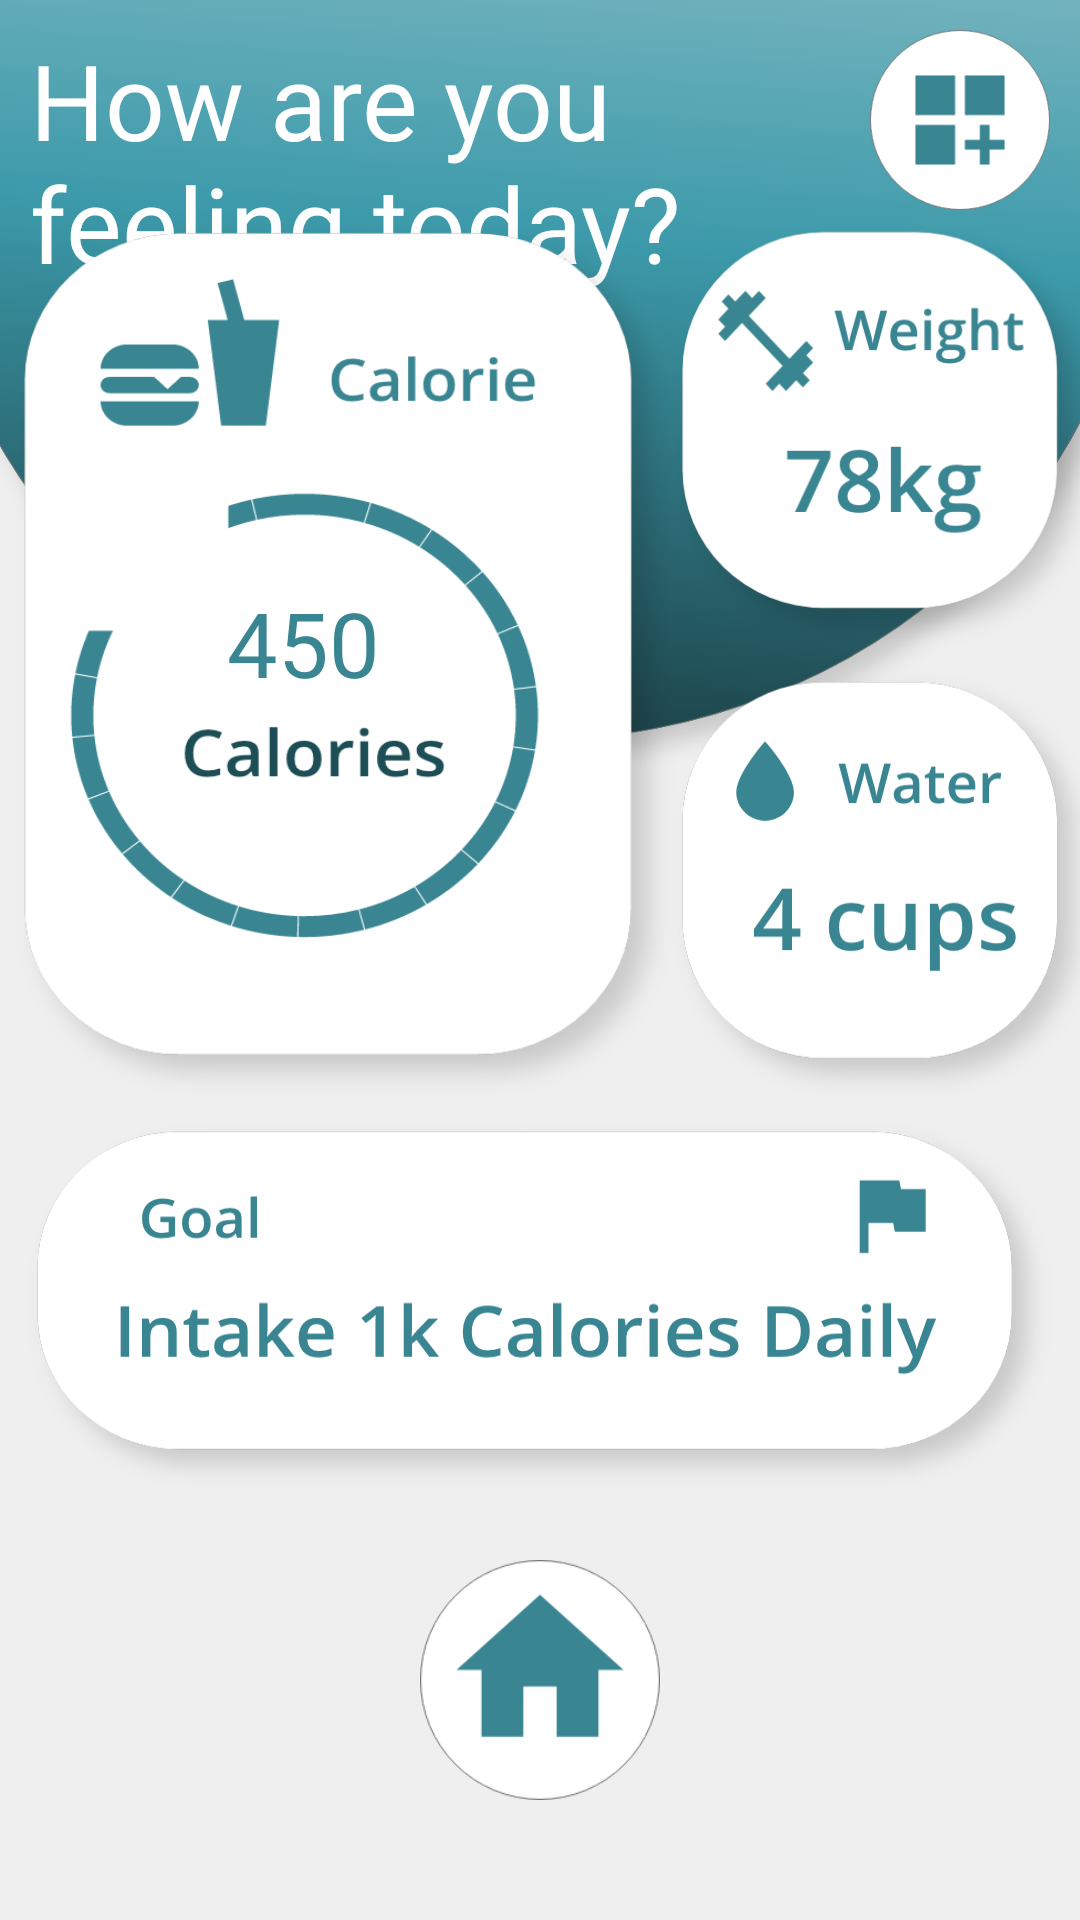

Point at icon controls on the screen. Image size 1080px x 1920px, points as [x,y].
add: [960,120]
home: [540,1680]
